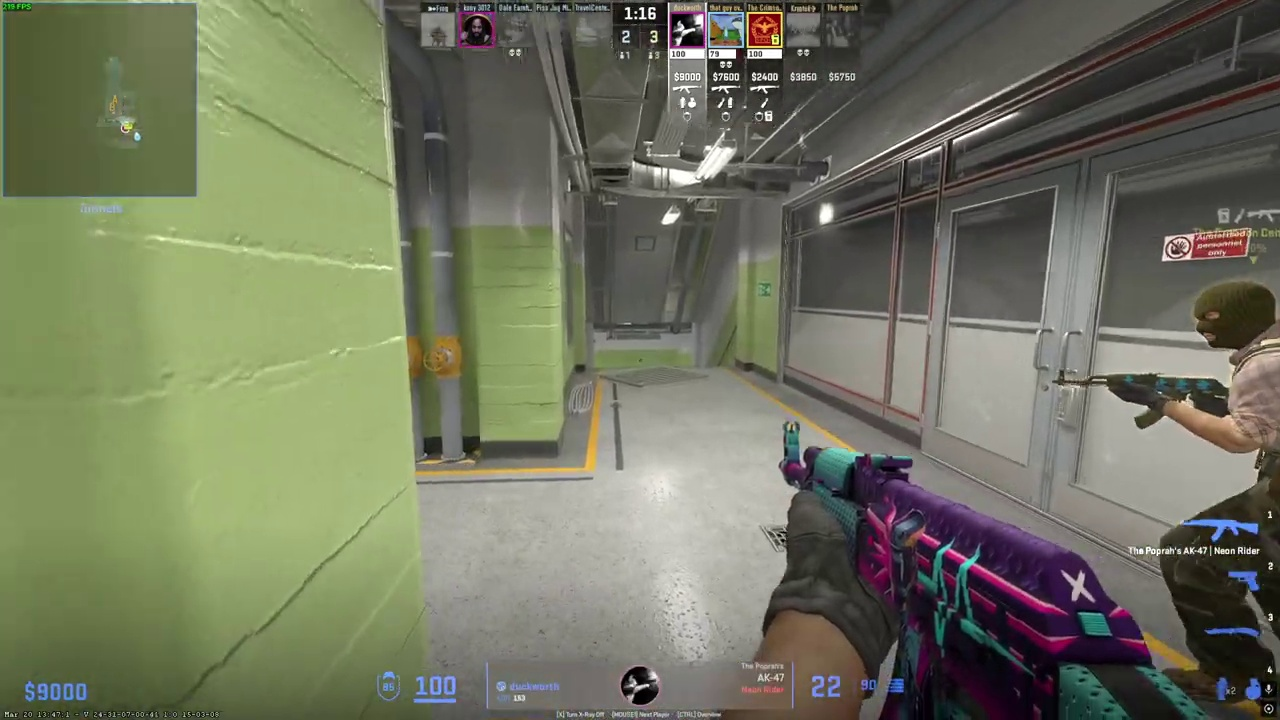Terrorist: (1153, 280, 1280, 720)
